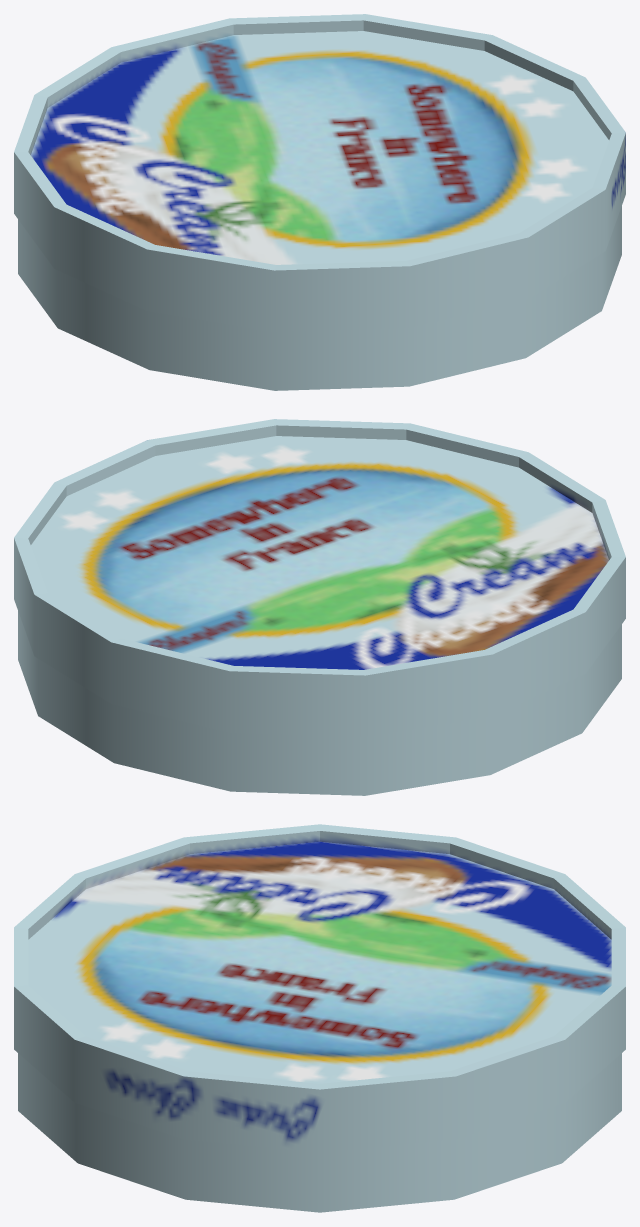
File: CreamCheese.fbx
3 renders of one model, top to bottom at view 1: azimuth 30°, elevation 25°; view 2: azimuth 150°, elevation 25°; view 3: azimuth 270°, elevation 25°, orthographic. The views are drawn at different scales.
Parts seen in each view (by area): view 1: Cheese; view 2: Cheese; view 3: Cheese.
Boxes of the visible parts, bbox=[...] form: Cheese: bbox=[14, 14, 625, 390]; Cheese: bbox=[14, 419, 625, 795]; Cheese: bbox=[14, 824, 625, 1212].
Bounding box in the file's own units: 2.03 × 0.4447 × 1.98.
